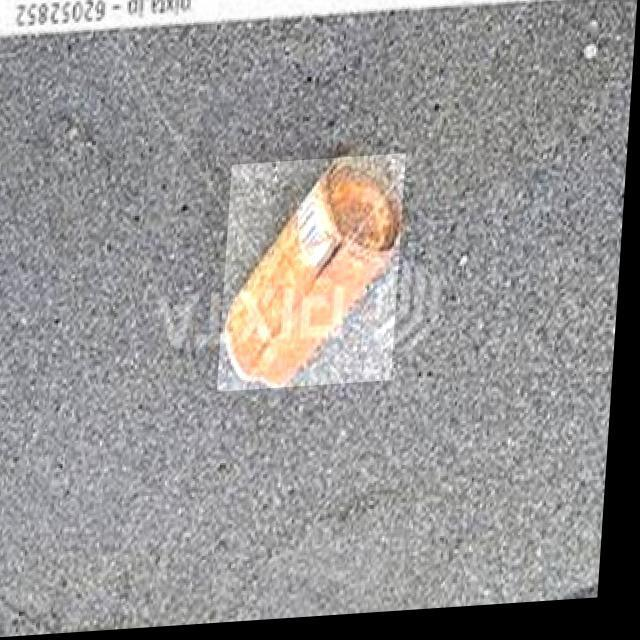trash: (223, 159, 409, 395)
